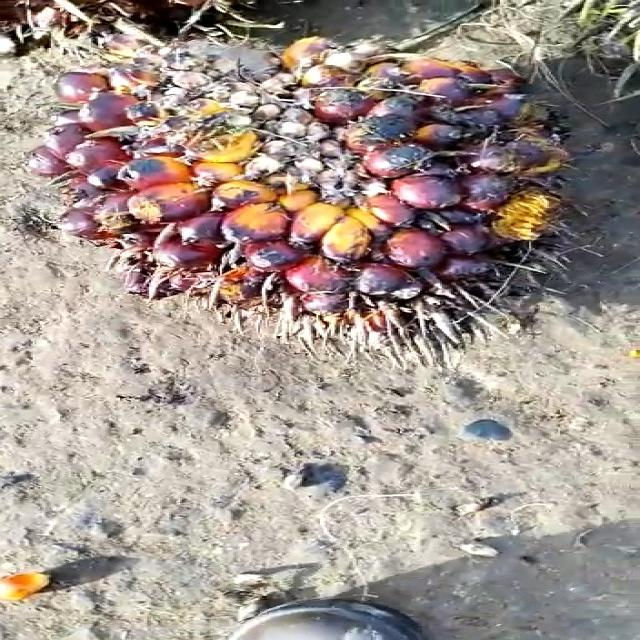palm oil: (35, 37, 621, 328)
